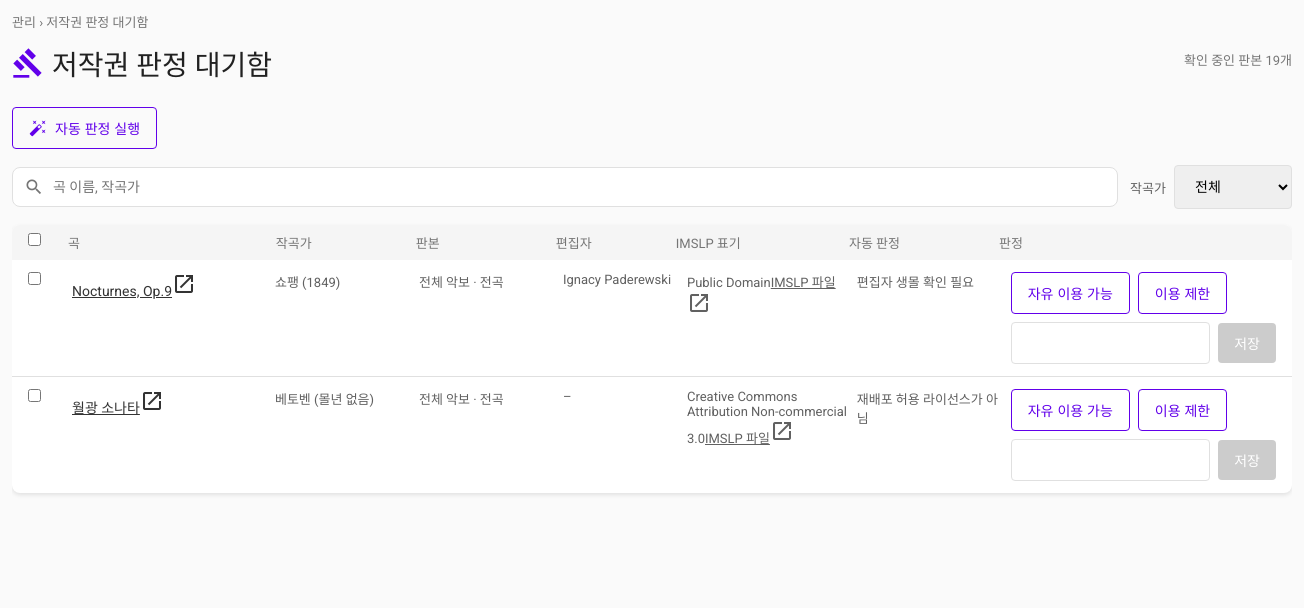
Test: CopyrightPendingPage — 행 판정 › 행 저장 실패 → 그 행 아래 '판정을 저장하지 못했어요 — 다시 시도', 행은 남는다
The width and height of the screenshot is (1304, 608).
Click the button "자유 이용 가능" next to "편집자 생몰 확인 필요" at point(1070, 293), box [1011, 272, 1130, 314]
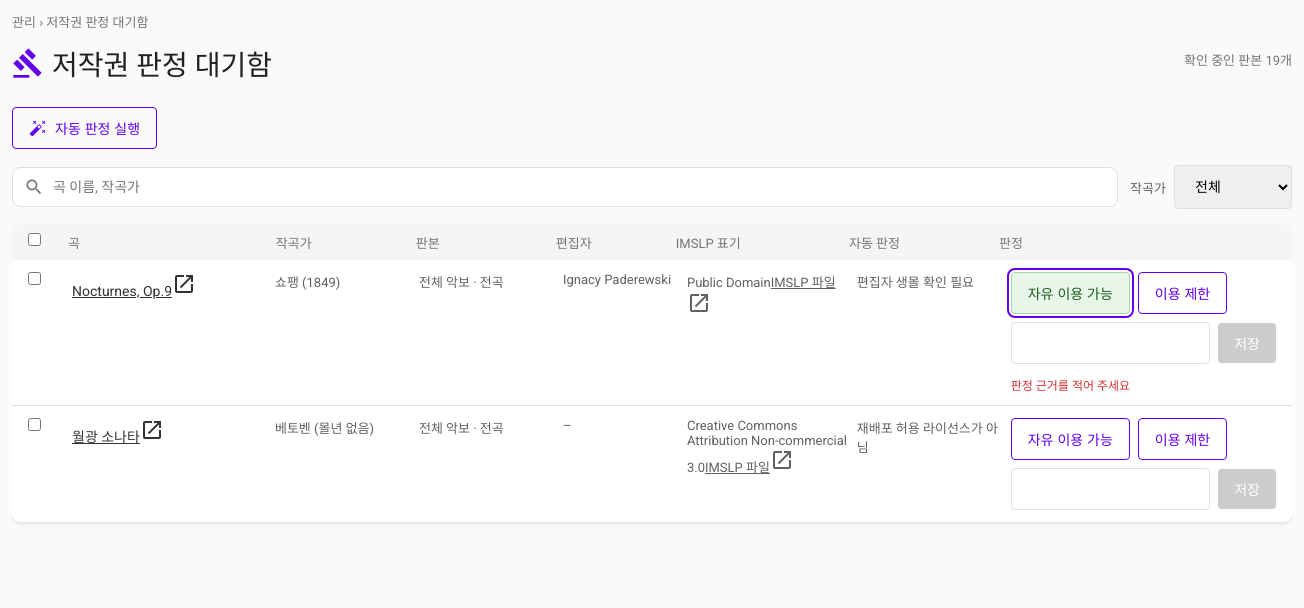
Type "작곡가 1849 사망, 편집자 1941 사망 → 경과" into the field named "판정 메모" below "Public Domain" at point(1110, 343), box [1011, 322, 1210, 364]
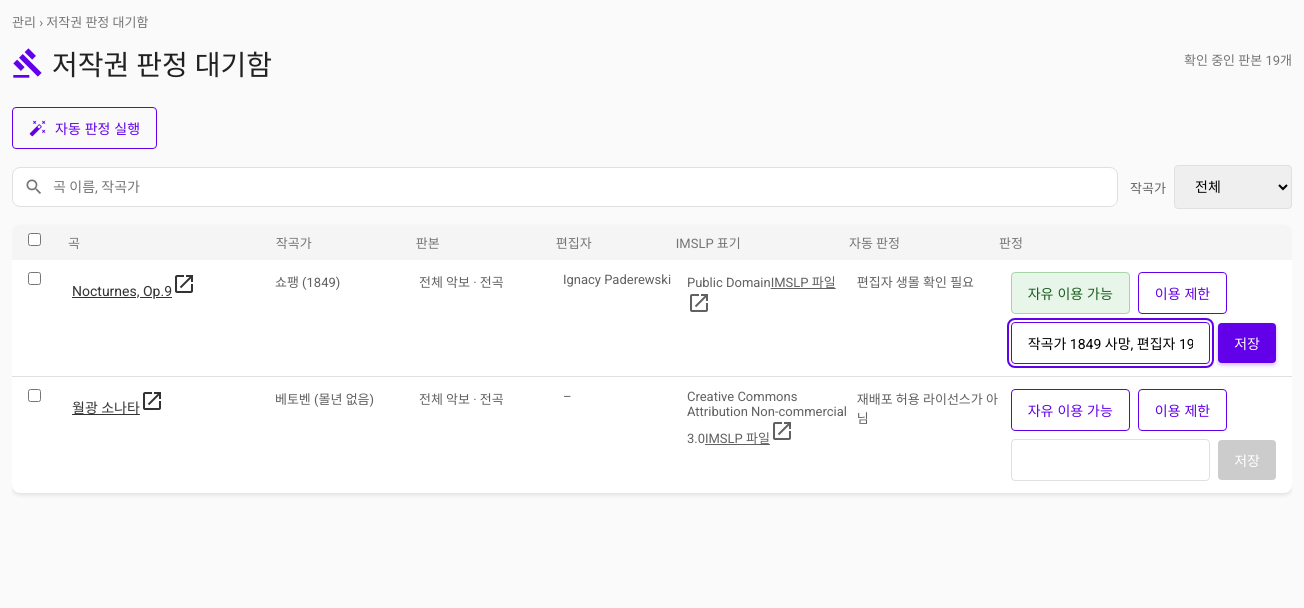
Click the button "저장" below "편집자 생몰 확인 필요" at point(1247, 343), box [1218, 323, 1276, 363]
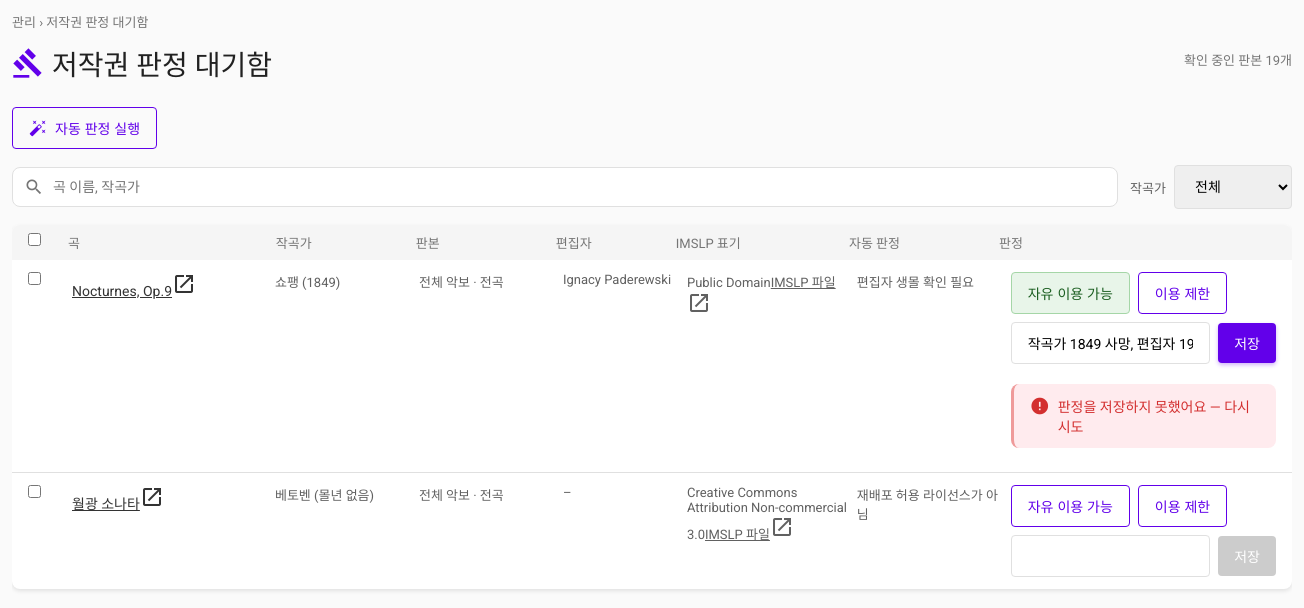
Expected: the element with test id "pending-row-305" is shown, [12, 260, 1292, 473]
Result: the text "판정을 저장하지 못했어요 — 다시 시도" is shown at [1058, 396, 1260, 436]
